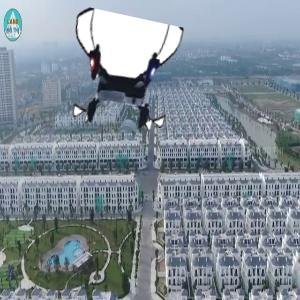drone: (65, 17, 183, 135)
